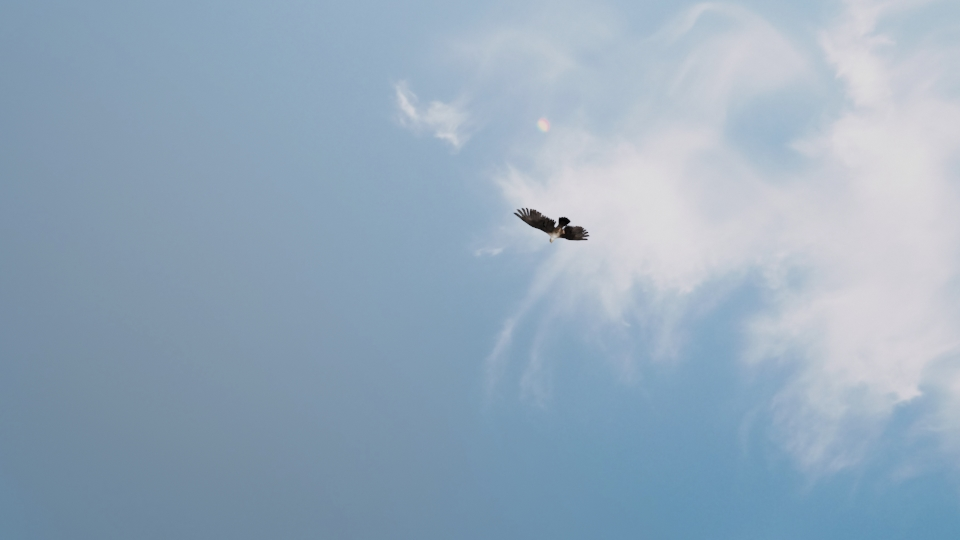bird: (513, 207, 589, 244)
